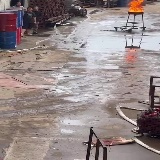fire: (128, 1, 144, 12)
